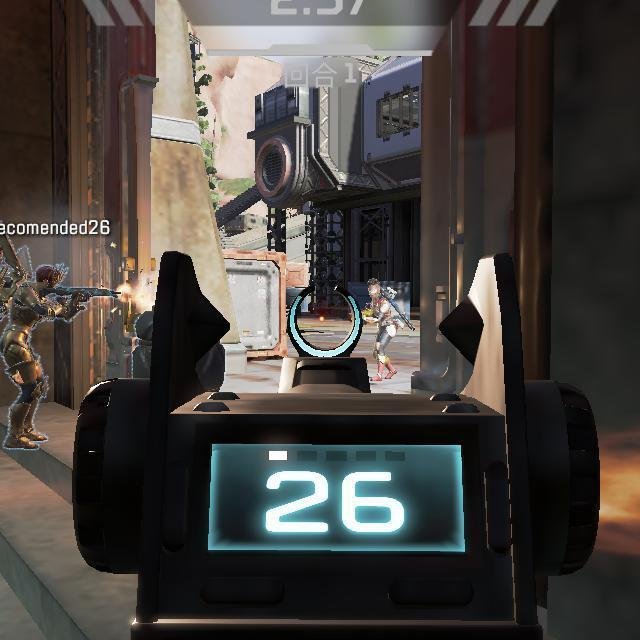avatar: (0, 259, 67, 451), (362, 278, 400, 383)
